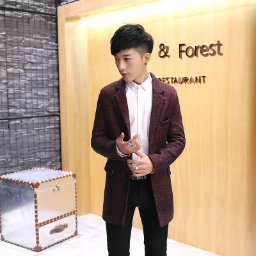face: (111, 23, 154, 85)
